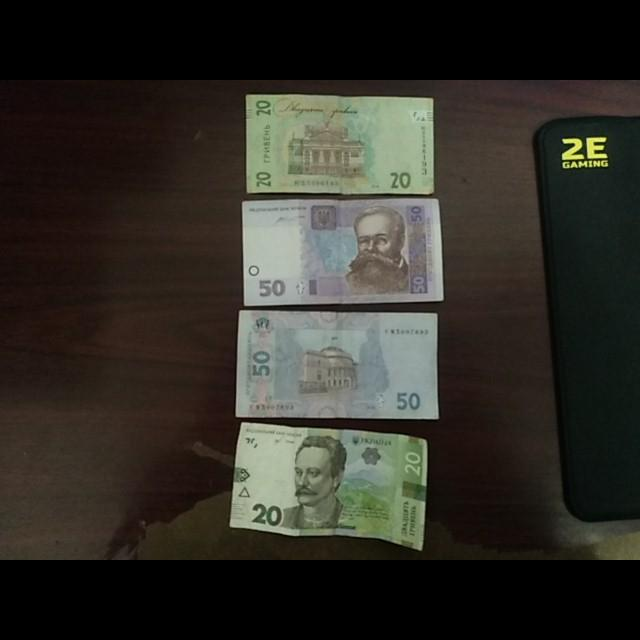20uah: (229, 423, 428, 552), (245, 92, 437, 194)
50uah: (235, 310, 439, 418), (241, 200, 447, 302)
